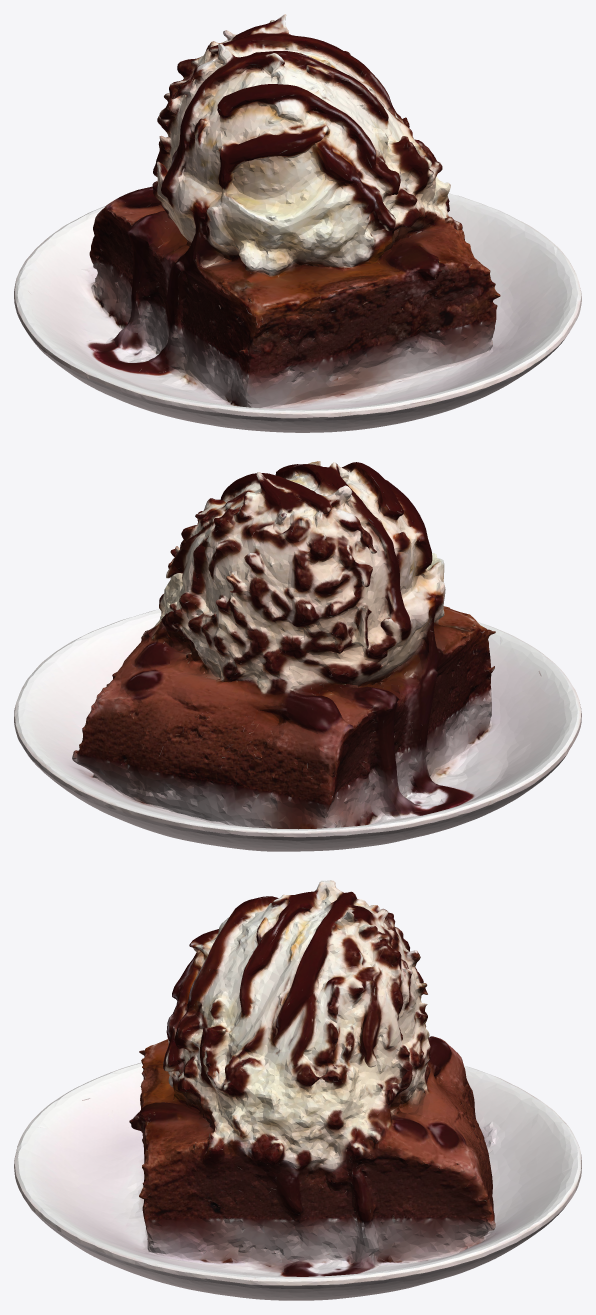
File: dessert.glb
The picture shows the model from 3 angles, top to bottom: view 1: azimuth 30°, elevation 25°; view 2: azimuth 150°, elevation 25°; view 3: azimuth 270°, elevation 25°; orthographic projection.
Parts seen in each view (by area): view 1: world; view 2: world; view 3: world.
Boxes of the visible parts, <box> form: world: <box>14,14,581,432</box>; world: <box>14,461,581,851</box>; world: <box>14,880,581,1300</box>.
Bounding box in the file's own units: 1.99 × 1.21 × 1.99.
1 material, 1 textured.
